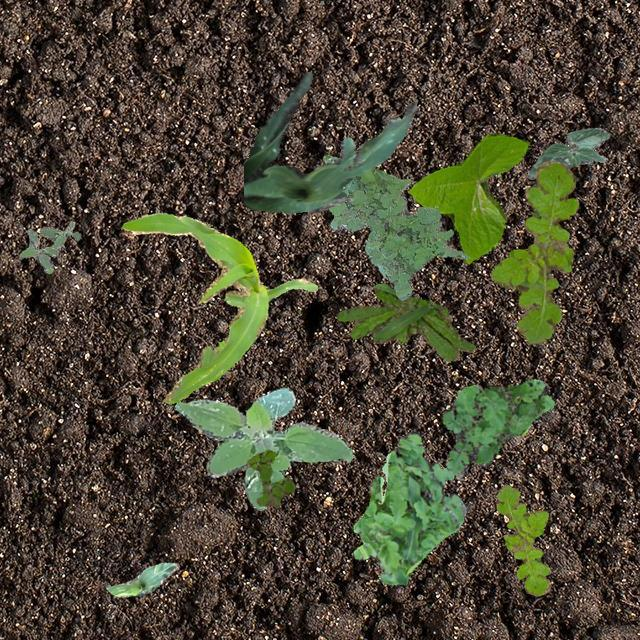crop: (120, 212, 316, 402), (243, 70, 417, 212), (407, 132, 528, 262), (528, 126, 610, 178), (106, 562, 176, 596)
weed: (174, 388, 352, 510), (322, 154, 468, 298), (352, 431, 466, 584), (488, 160, 578, 344), (441, 378, 554, 480), (336, 282, 474, 359), (496, 484, 550, 596), (16, 220, 80, 272), (246, 448, 294, 506)
